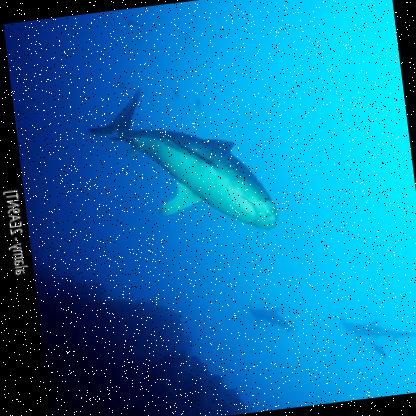hammerhead_Shark: (67, 55, 305, 264)
